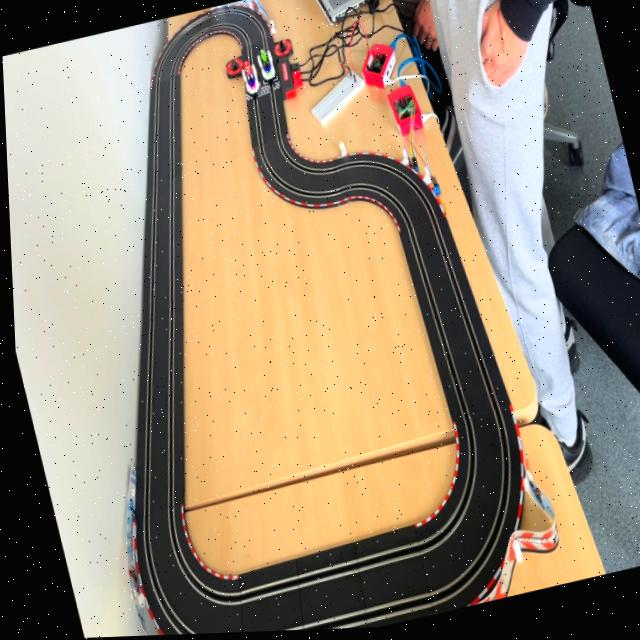mario: (238, 59, 262, 100)
yoshi: (256, 49, 278, 83)
